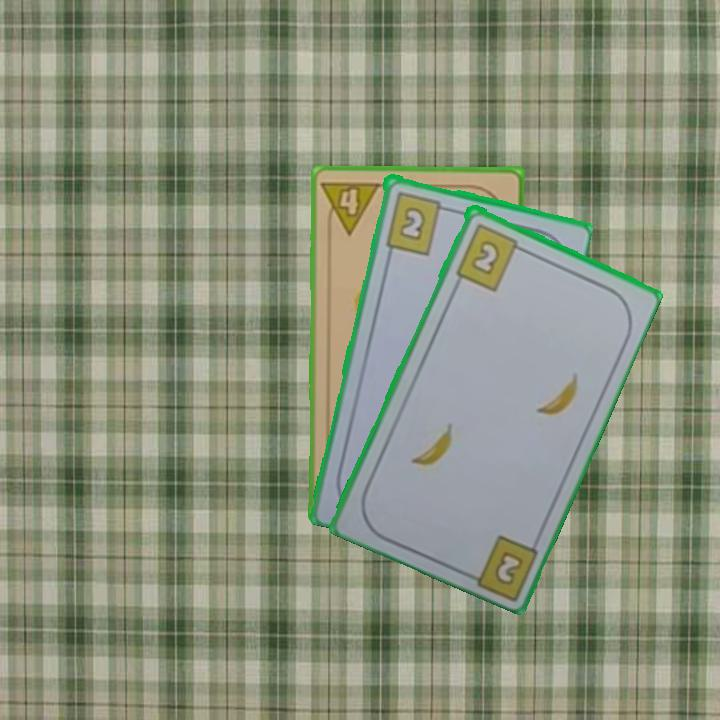2b: (452, 219, 528, 293), (381, 188, 452, 257), (490, 546, 526, 588)
4p: (318, 177, 383, 237)
